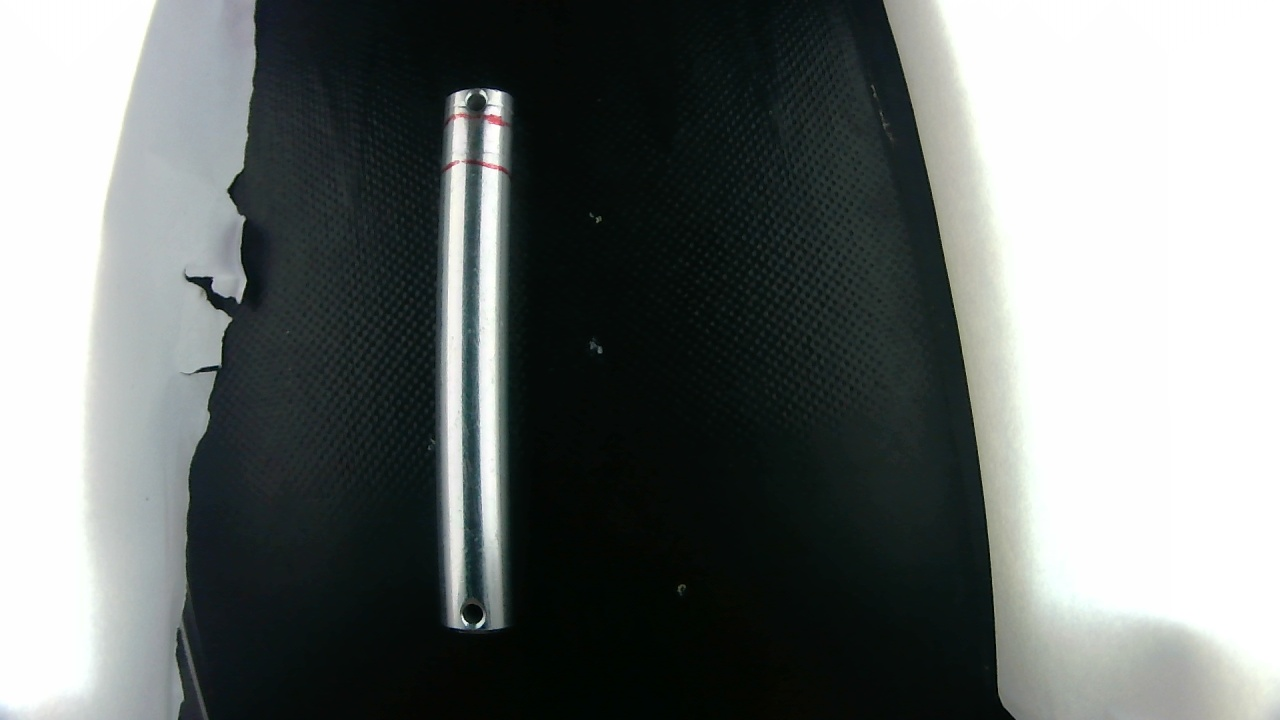odlinemark_pin: (445, 133, 508, 162)
